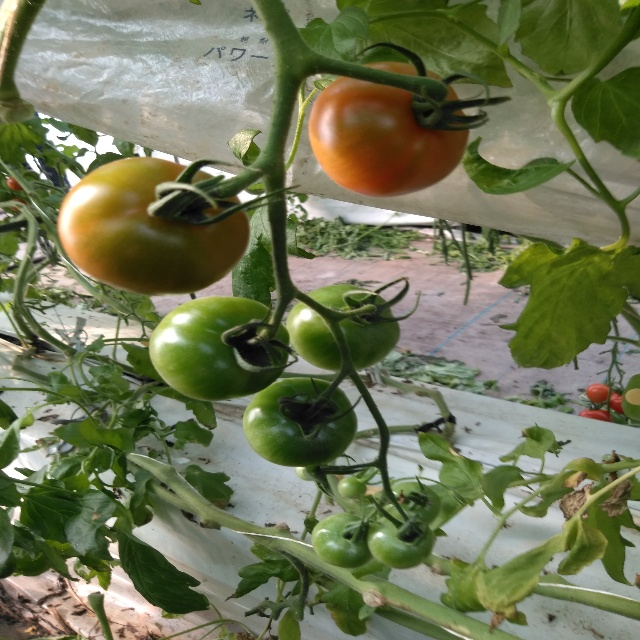l_fully_ripened: (586, 384, 618, 405), (579, 408, 612, 422), (606, 392, 624, 413)
l_green: (148, 295, 290, 402), (241, 377, 359, 467), (287, 284, 400, 372), (367, 515, 435, 569), (312, 513, 374, 569), (385, 481, 442, 526), (337, 477, 368, 499), (295, 465, 322, 481)
l_half_ripened: (58, 156, 252, 296), (309, 62, 471, 198)
